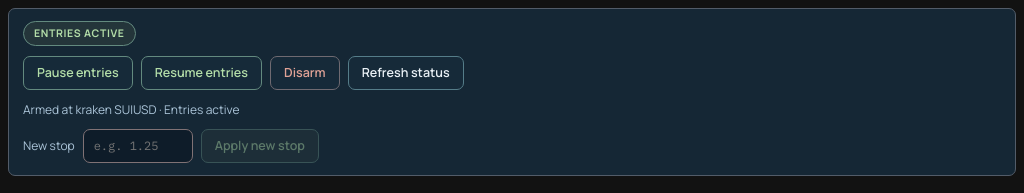
it: EditorInlineStopControl Signal slice — raise-stop outcome › fills Apply sage and captions 'Stop raised to 6.5' after a confirmed raise_stop
This screenshot has width=1024, height=193.
Type "6.5" into the field with test id "editor-inline-stop-new-stop" at (138,146), box [83,129,193,163]
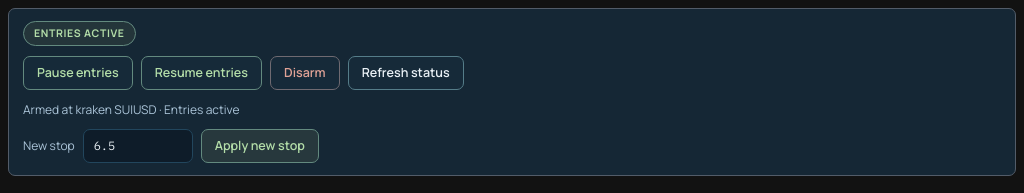
Now the button with test id "editor-inline-stop-apply" is enabled
Click the button with test id "editor-inline-stop-apply" at (260,146), box [201,129,319,163]
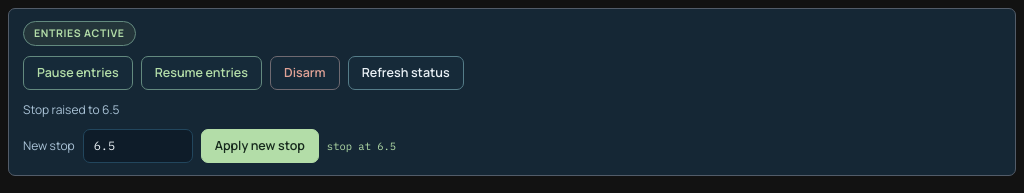
Now the text with test id "inline-stop-caption" reads "Stop raised to 6.5", box [23,101,119,118]
Now the text with test id "editor-inline-stop-at" reads "stop at 6.5", box [327,139,396,153]
